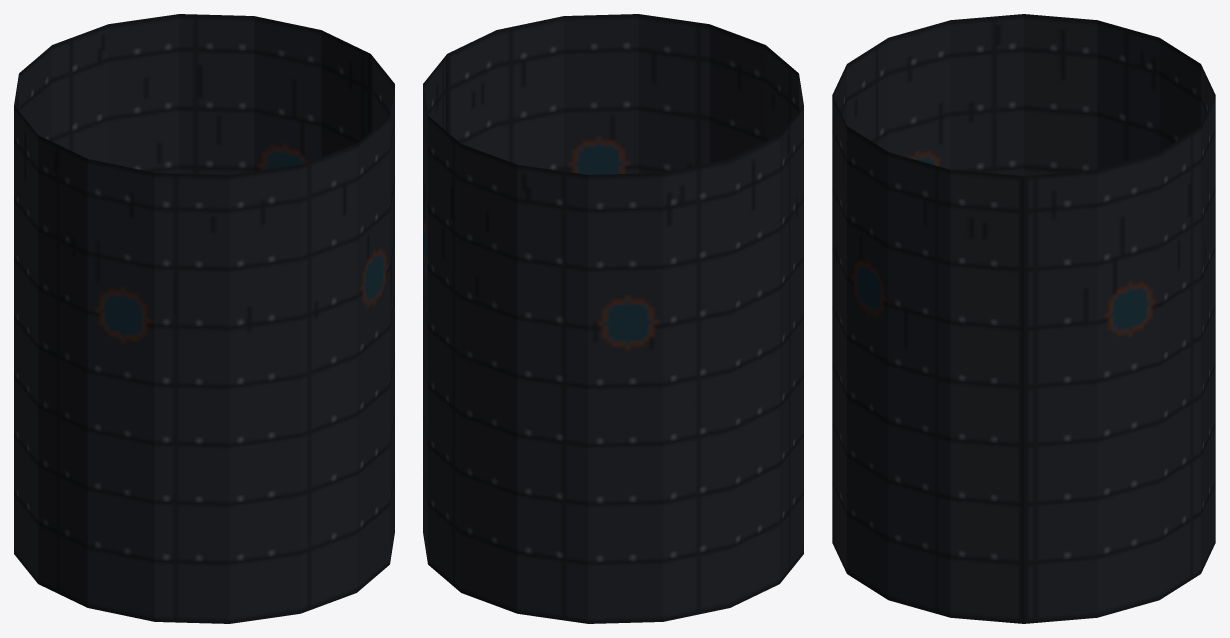
The model's file is DrumUpper.obj.
3 renders of one model, left to right at view 1: azimuth 30°, elevation 25°; view 2: azimuth 150°, elevation 25°; view 3: azimuth 270°, elevation 25°, orthographic.
Visible parts, largest first — view 1: DrumUpper; view 2: DrumUpper; view 3: DrumUpper.
Part boxes in pixels (x1,y1,x2,y2): DrumUpper: (14, 14, 394, 623); DrumUpper: (423, 14, 803, 623); DrumUpper: (832, 14, 1215, 623).
Bounding box in the file's own units: 6.9 × 8.9 × 6.9.
Materials: 1 (1 with a texture image).
